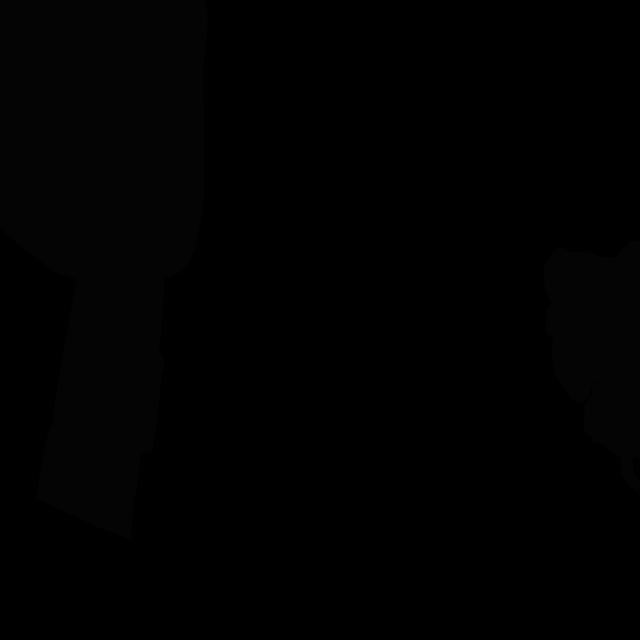soft_plastic: (36, 274, 165, 540), (544, 241, 640, 495), (546, 303, 613, 402)
